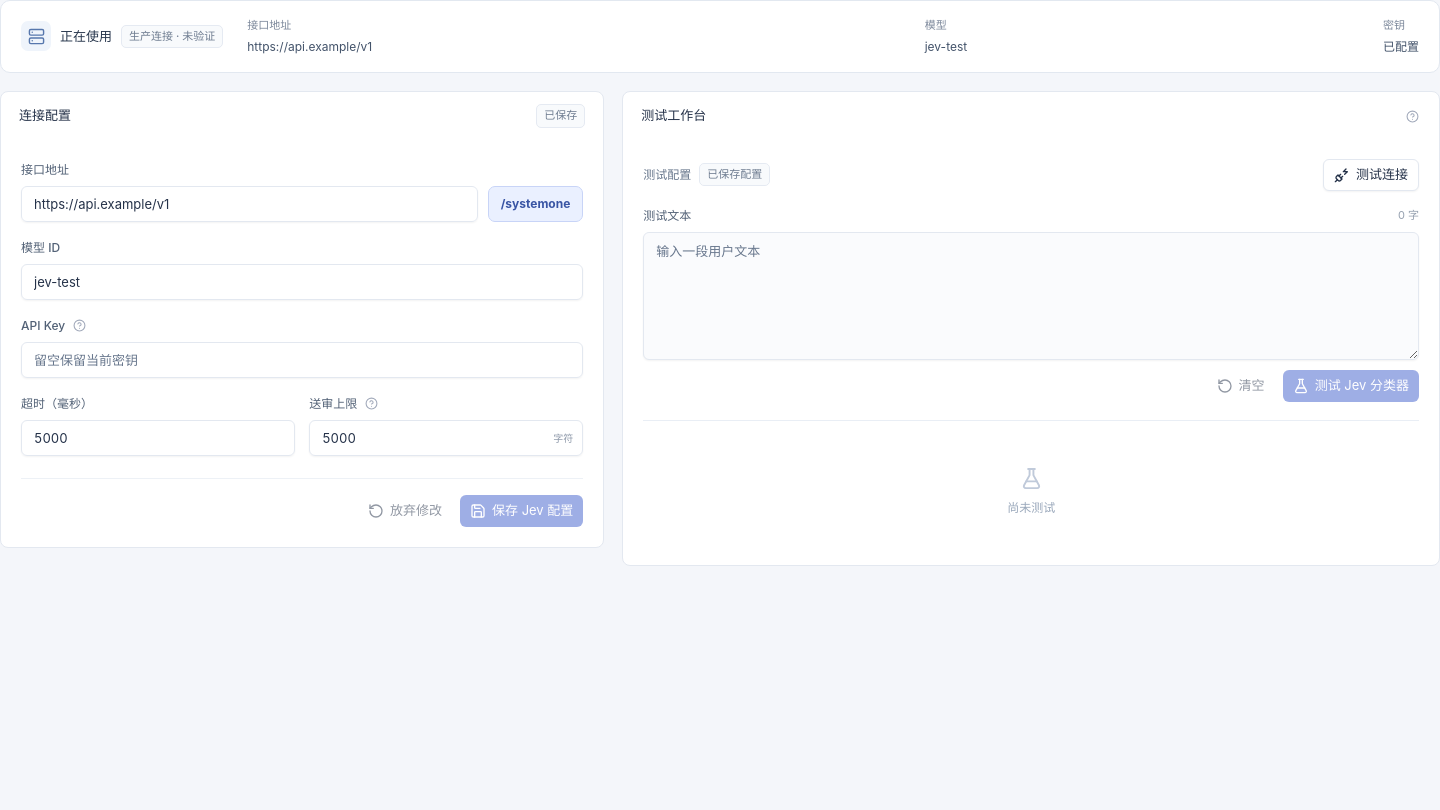
Scenario: shows classifier scores from the current connection and clears the test
The width and height of the screenshot is (1440, 810).
Type "sample" into the text box labelled "测试文本" at (1031, 296), box [643,232,1419,360]
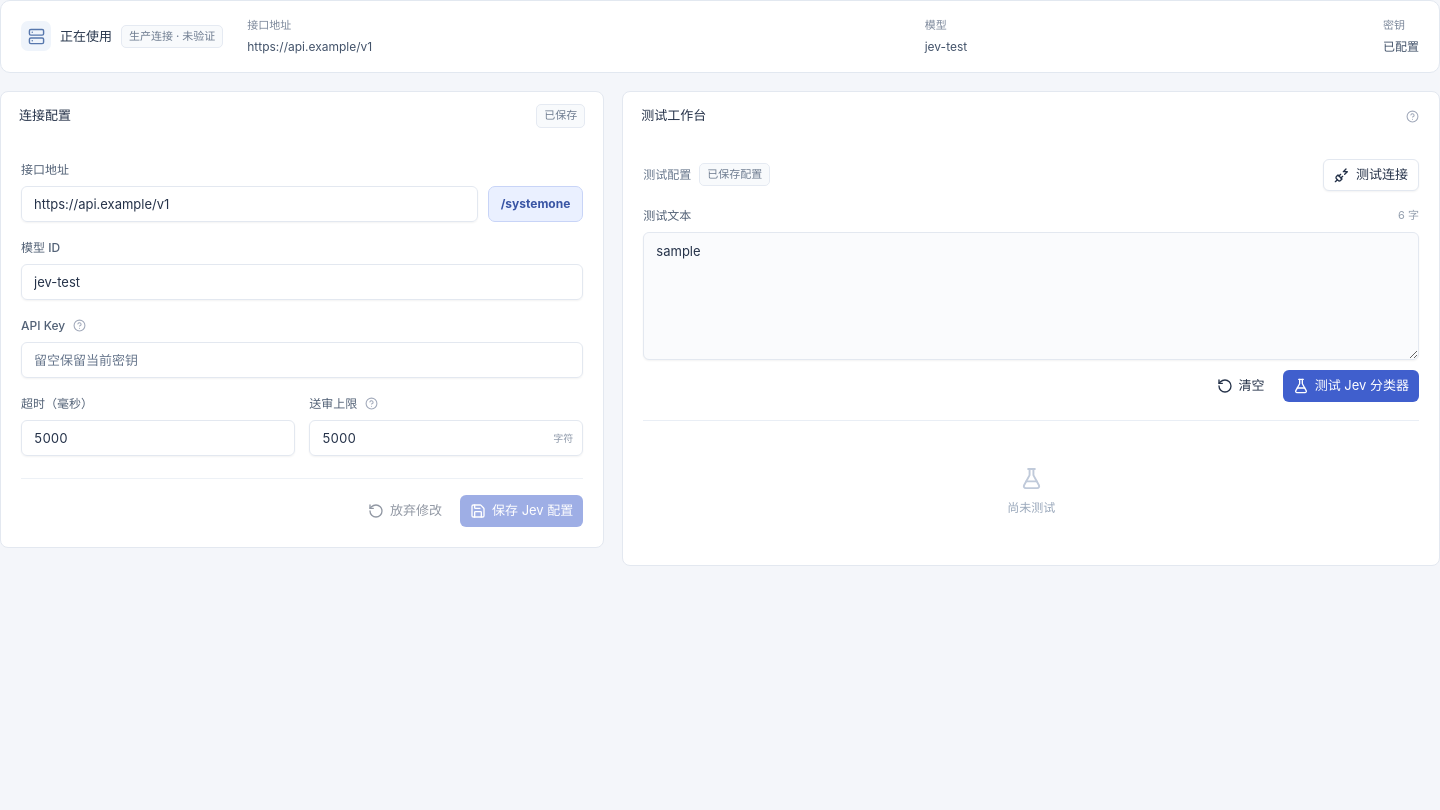
Click the button "测试 Jev 分类器" at (1351, 386), box [1283,370,1419,402]
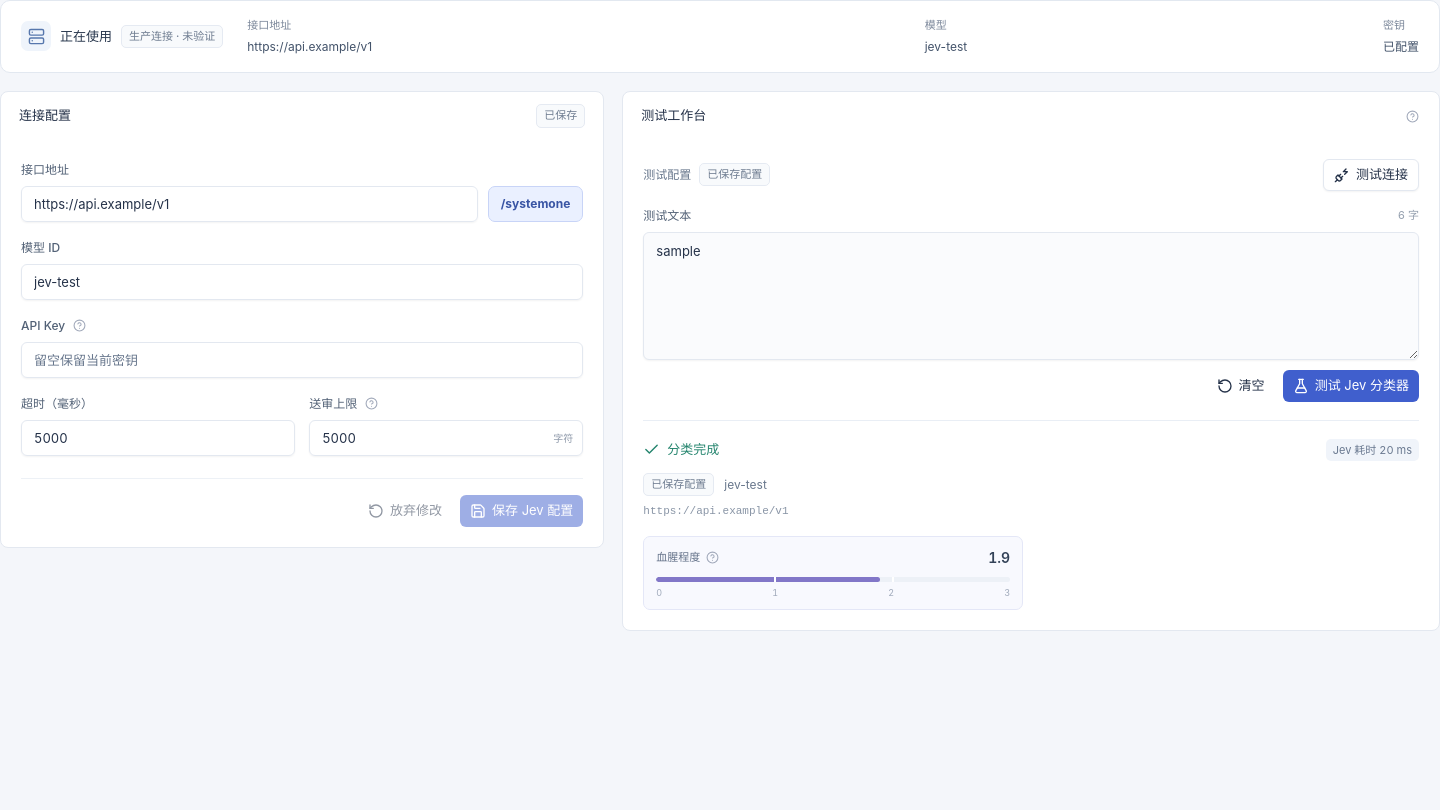
Now the text "1.9" is shown, box [988,547,1010,568]
Click the button with aria-label "清空测试" at (1241, 386), box [1207,370,1275,402]
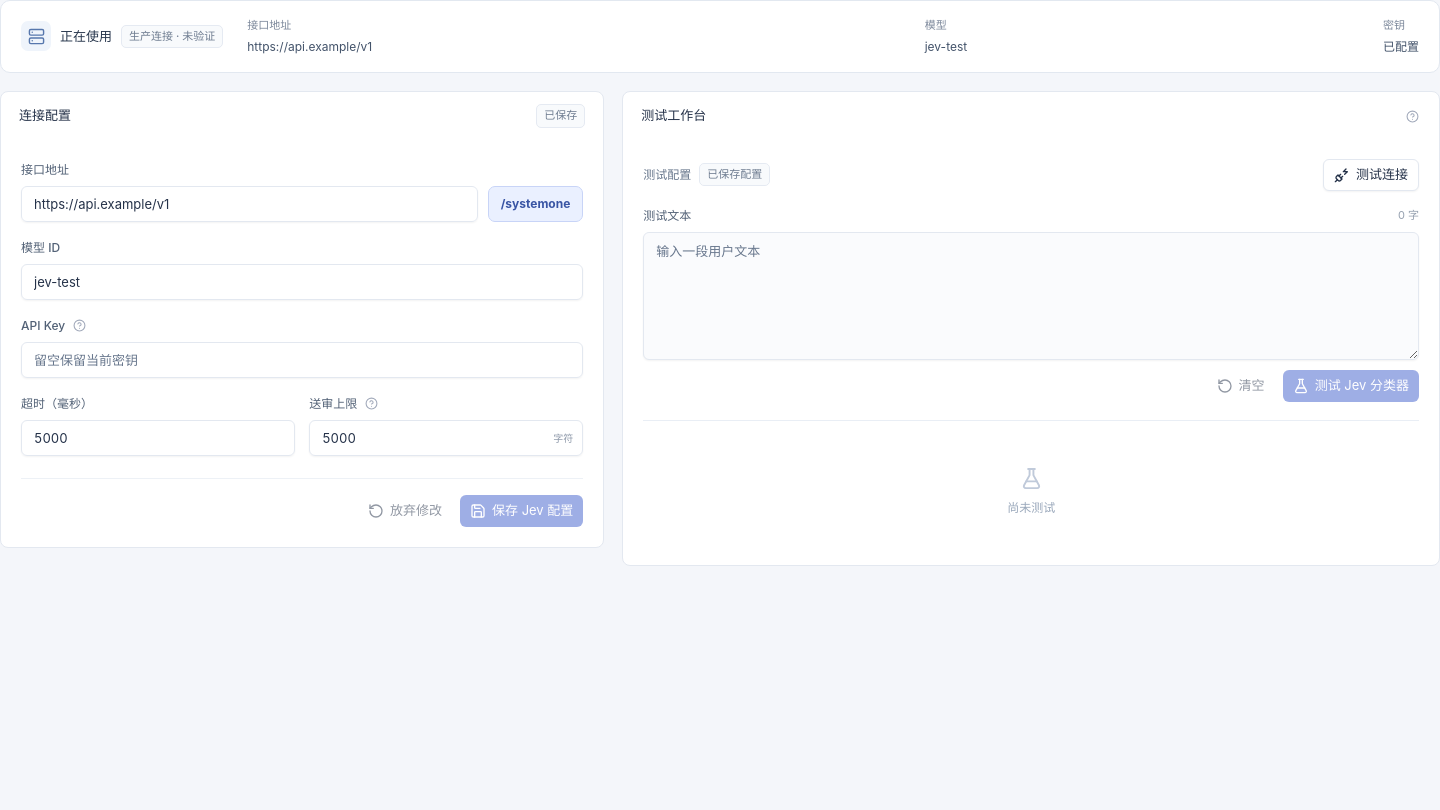
Now the text "1.9" is gone
